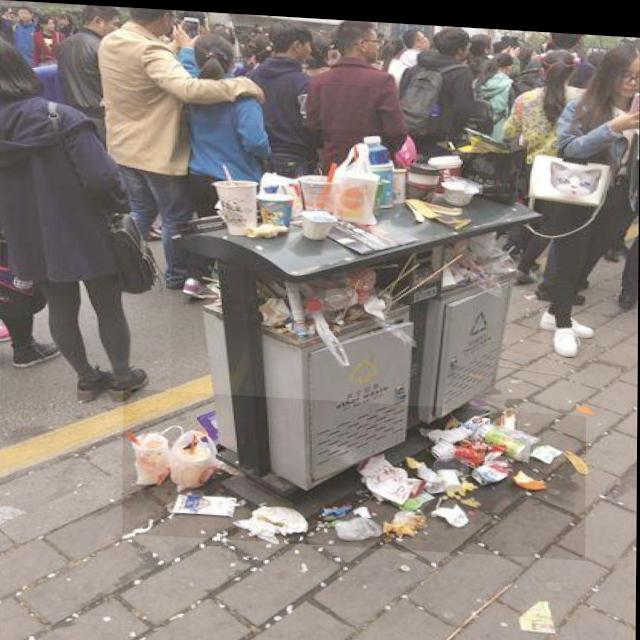garbage: (123, 387, 587, 554)
overflow: (172, 118, 542, 525)
